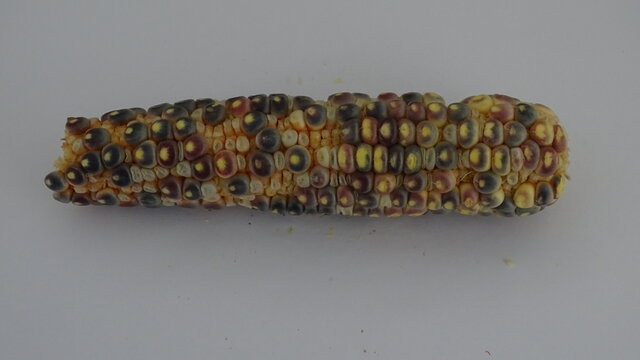corn: (467, 143, 491, 173)
